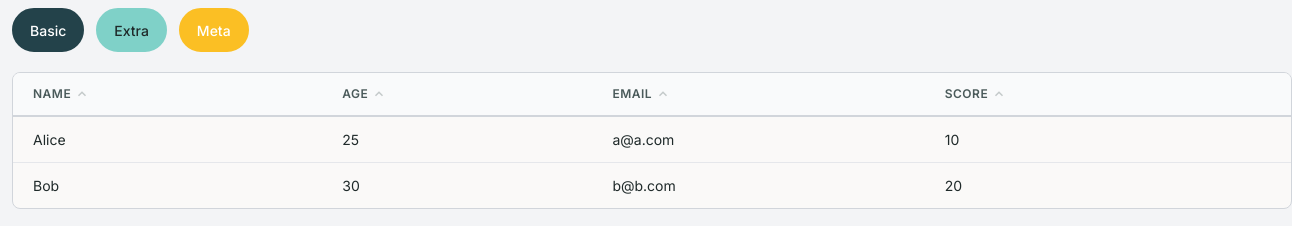
Test: ConfigurableTable › sorting › sorts descending on second click
This screenshot has width=1292, height=226.
Step 1. Click the column heading with class "ct-th-sortable" showing "Name" → point(52, 94), box x1=13 y1=73 x2=322 y2=116
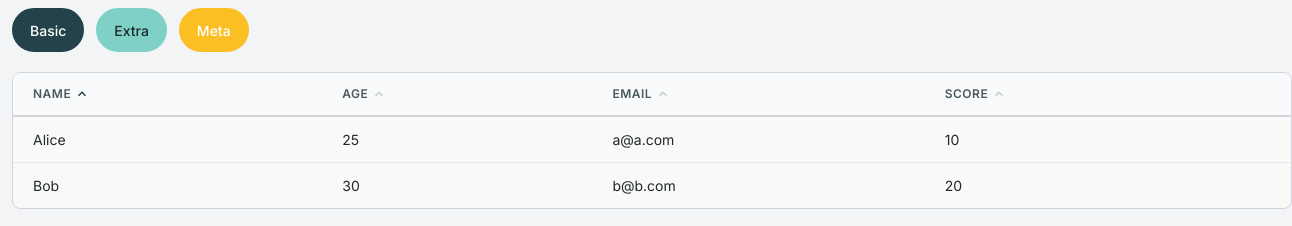
Step 2. Click the column heading with class "ct-th-sortable" showing "Name" → point(52, 94), box x1=13 y1=73 x2=322 y2=116
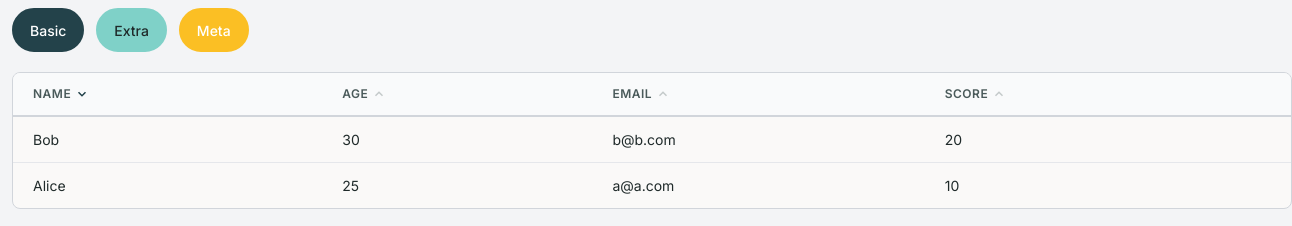
Check: the cell "Bob" is shown, box x1=13 y1=116 x2=322 y2=162
Check: the cell "Alice" is shown, box x1=13 y1=162 x2=322 y2=208
